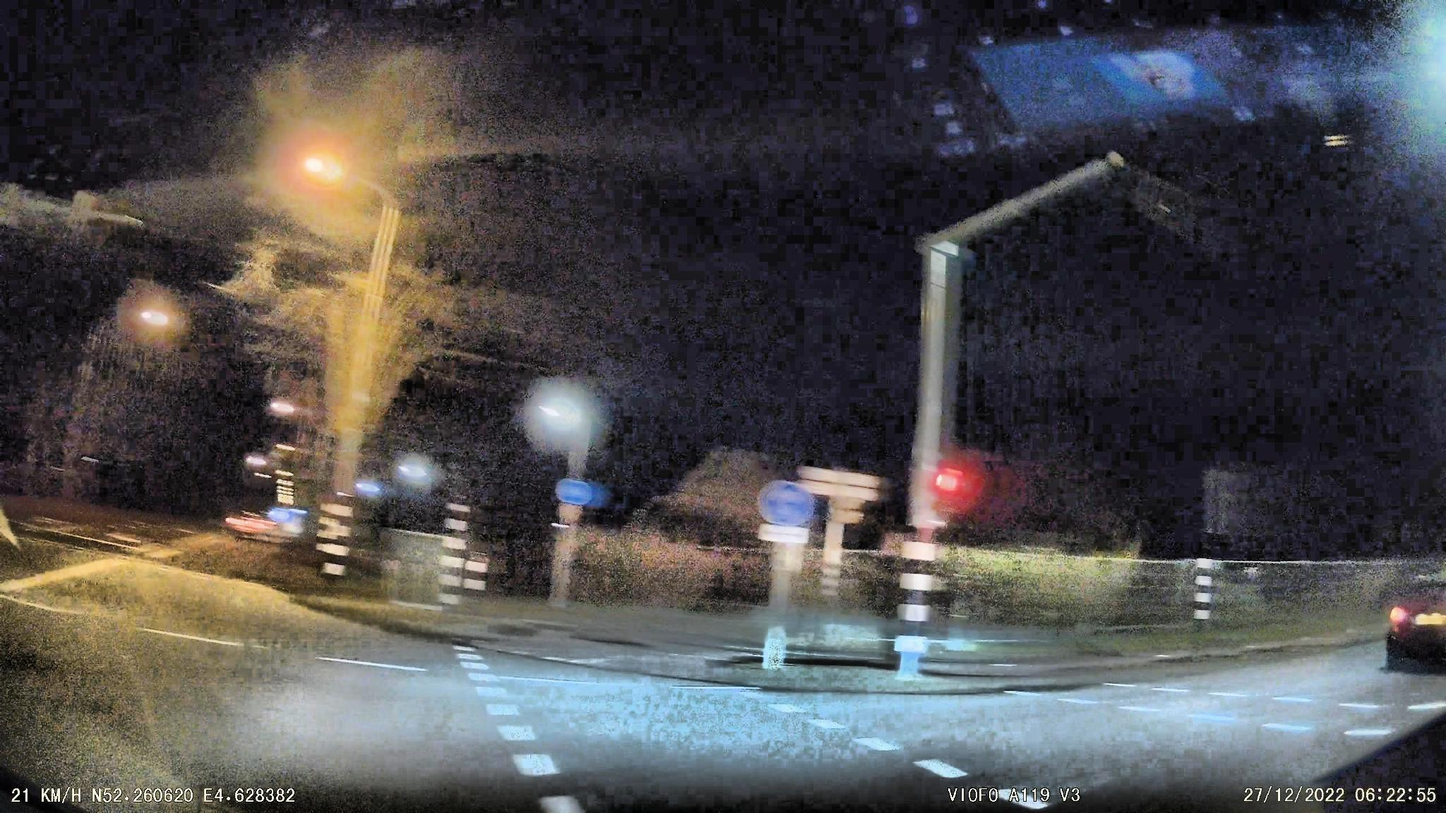Roads: (0, 536, 1446, 813)
